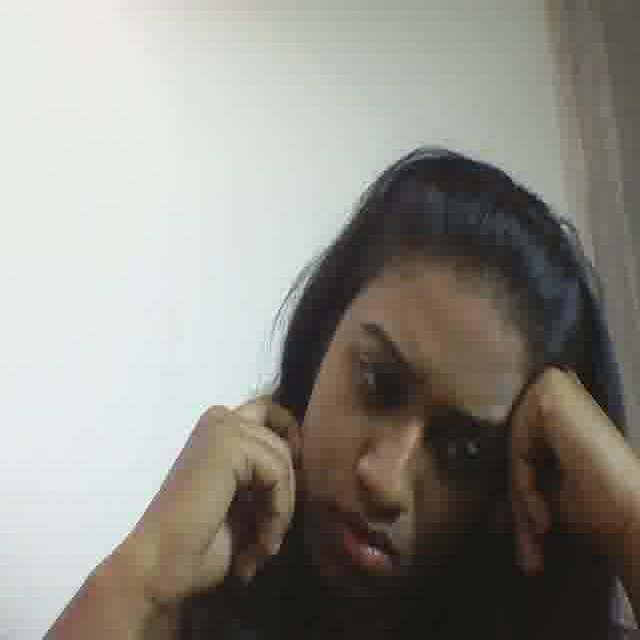Boredom: (296, 270, 501, 614)
